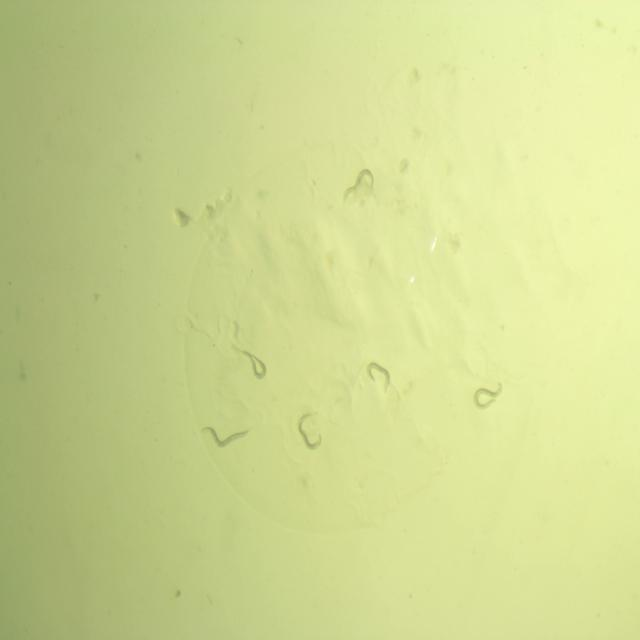worm: (339, 162, 378, 208), (292, 408, 328, 454), (199, 424, 257, 452), (232, 343, 272, 383), (471, 379, 508, 414), (366, 360, 394, 398)
